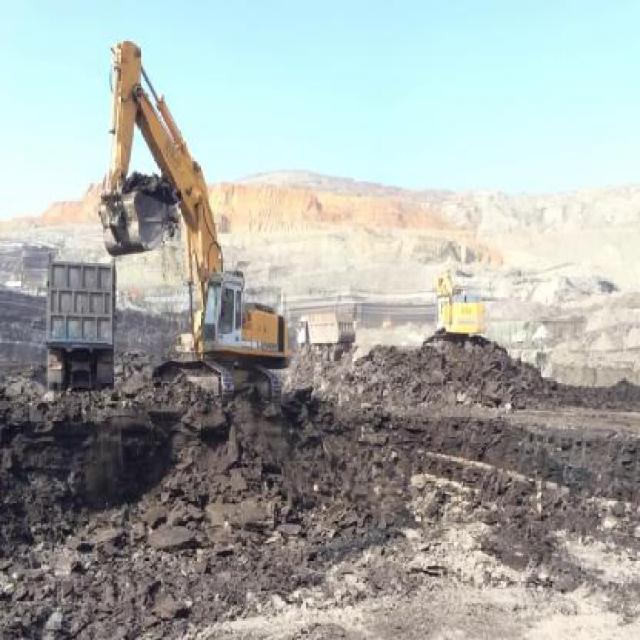dump_truck: (49, 252, 114, 394), (296, 309, 355, 357)
excavator: (104, 40, 290, 426), (429, 270, 485, 345)
